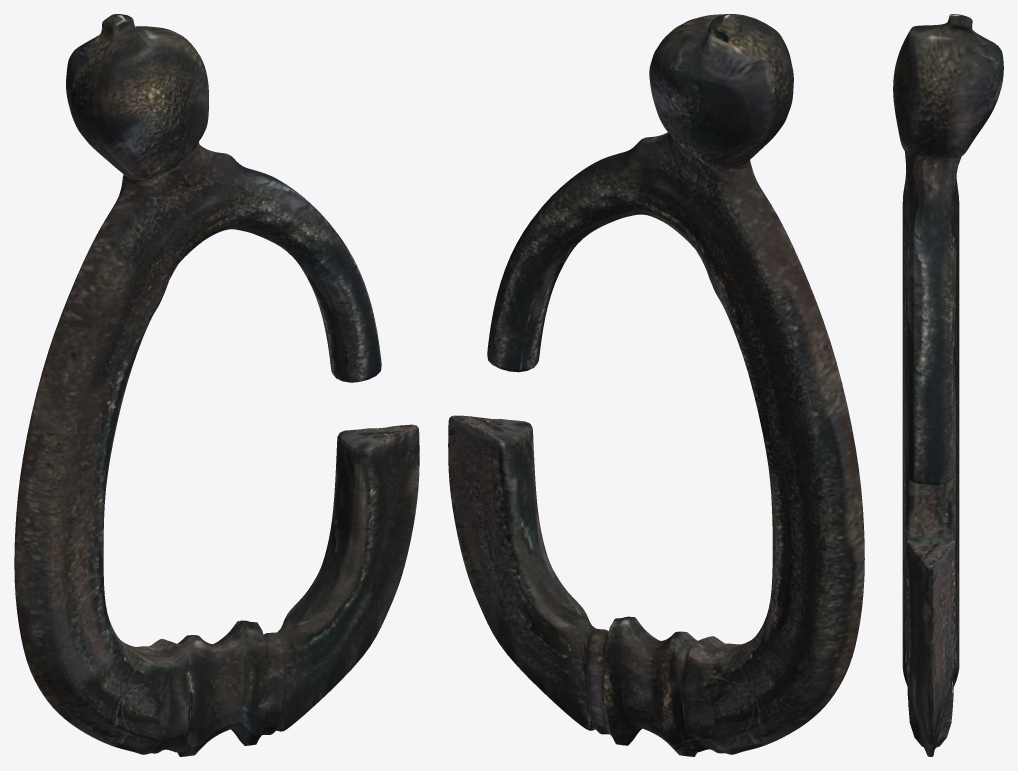
Rendered from exhibit_earbip.glb.
The picture shows the model from 3 angles, left to right: view 1: azimuth 30°, elevation 25°; view 2: azimuth 150°, elevation 25°; view 3: azimuth 270°, elevation 25°; orthographic projection. The views are drawn at different scales.
Visible parts, largest first — view 1: Cube; view 2: Cube; view 3: Cube.
Boxes of the visible parts, x1=… form: Cube: x1=14, y1=14, x2=419, y2=756; Cube: x1=448, y1=14, x2=864, y2=756; Cube: x1=893, y1=14, x2=1003, y2=756.
Size of the model in its own units: 14.64 by 25.87 by 3.81.
1 material, 1 textured.
